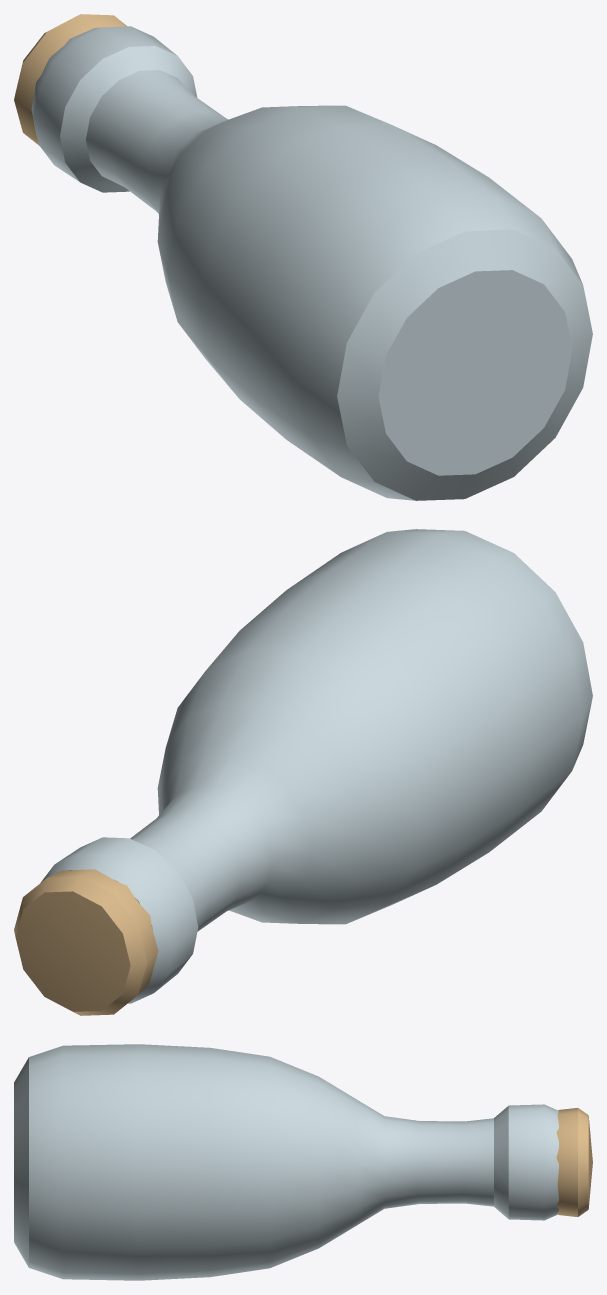
File: Bottle.fbx
3 renders of one model, top to bottom at view 1: azimuth 30°, elevation 25°; view 2: azimuth 150°, elevation 25°; view 3: azimuth 270°, elevation 25°, orthographic. The views are drawn at different scales.
Parts seen in each view (by area): view 1: Bottle_Glass, Bottle_Cork; view 2: Bottle_Glass, Bottle_Cork; view 3: Bottle_Glass, Bottle_Cork.
Boxes of the visible parts, x1,y1,x2,y2 form: Bottle_Glass: (31, 26, 592, 500); Bottle_Cork: (14, 14, 126, 145); Bottle_Glass: (40, 529, 592, 1003); Bottle_Cork: (14, 869, 158, 1015); Bottle_Glass: (14, 1044, 558, 1280); Bottle_Cork: (556, 1108, 592, 1216).
Size of the model in its own units: 44.42 by 44.42 by 109.
